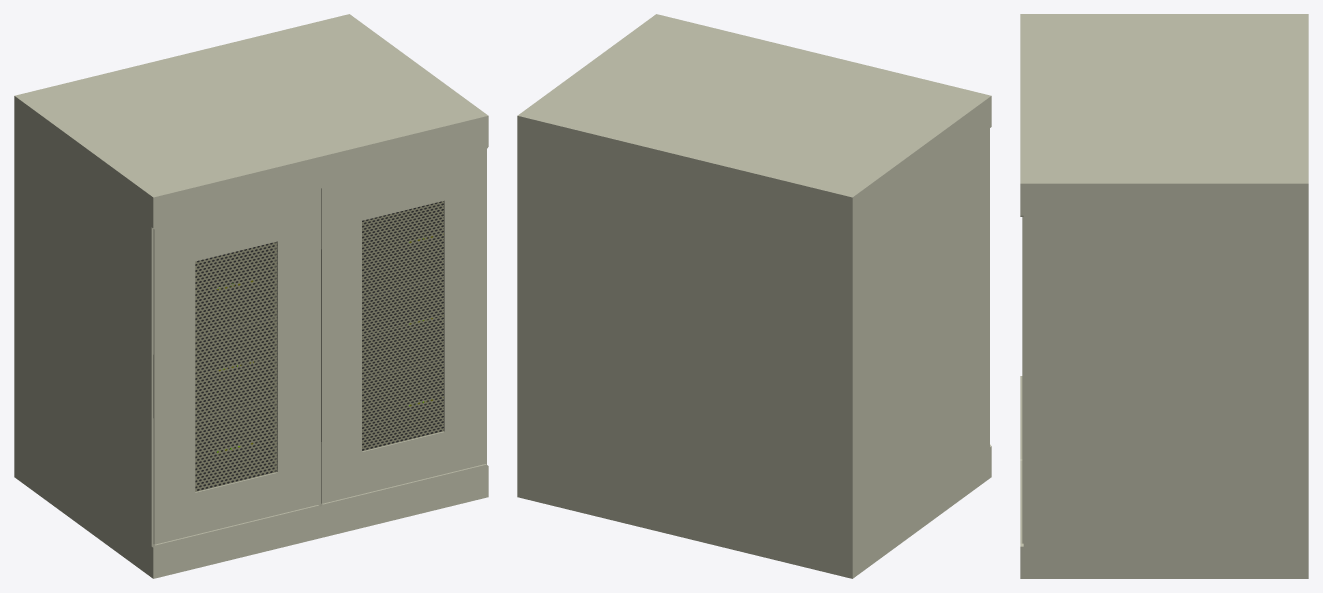
3 views of the same model, side by side, from view 1: azimuth 30°, elevation 25°; view 2: azimuth 150°, elevation 25°; view 3: azimuth 270°, elevation 25° (orthographic). The views are drawn at different scales.
Parts seen in each view (by area): view 1: Box062, Cylinder051, Cylinder052; view 2: Box062; view 3: Box062.
Part boxes in pixels (left/top/right/bottom): Box062: left=14, top=14, right=488, bottom=578; Cylinder051: left=362, top=201, right=443, bottom=450; Cylinder052: left=195, top=242, right=274, bottom=490; Box062: left=517, top=14, right=991, bottom=578; Box062: left=1020, top=14, right=1308, bottom=578.
Bounding box in the file's own units: 0.6961 × 0.757 × 0.5.
Materials: 5 (1 with a texture image).
